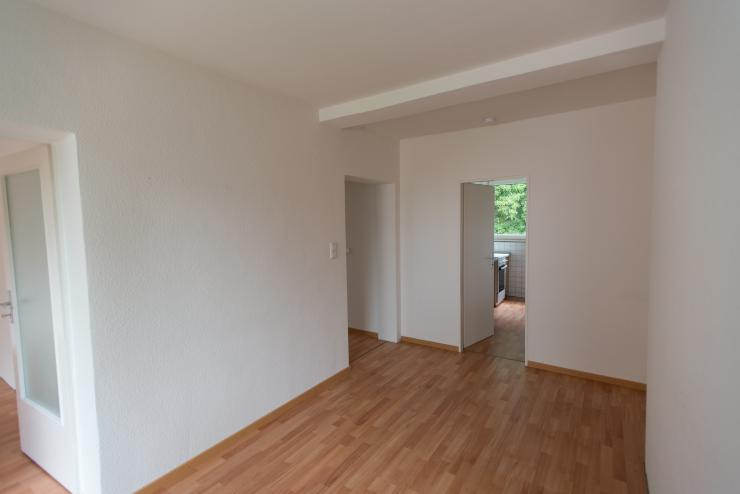door: (1, 120, 104, 494), (459, 176, 530, 367), (343, 175, 396, 370)
wall: (1, 1, 401, 494), (401, 95, 656, 395)
